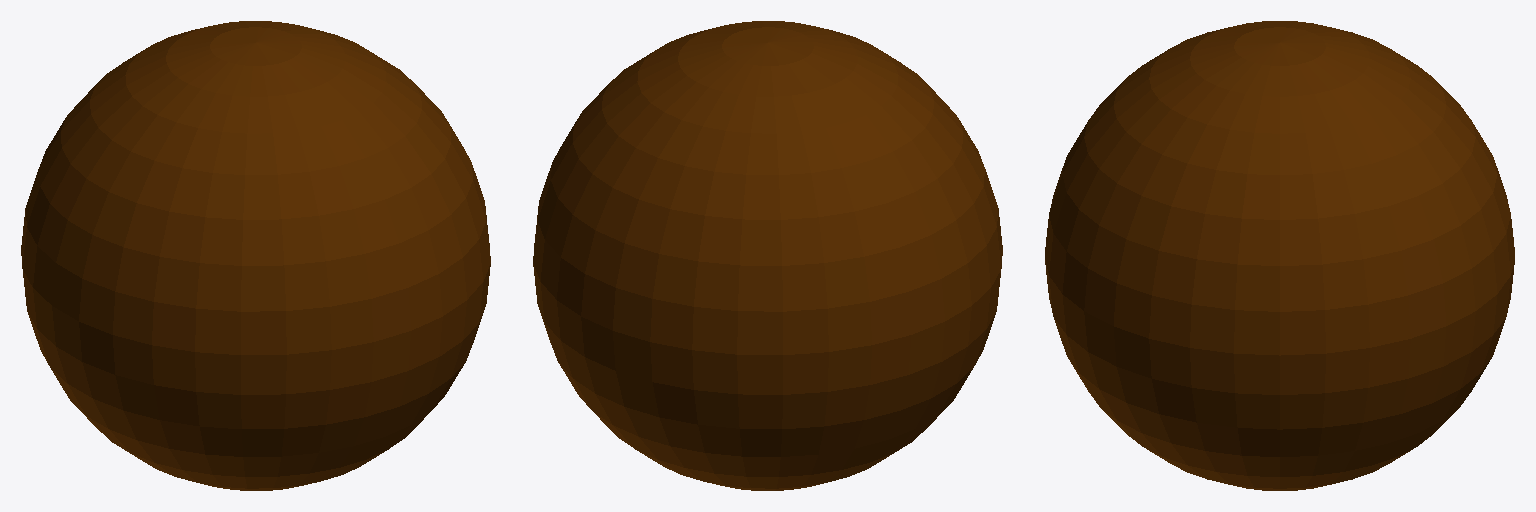
File: sph.obj
3 views of the same model, side by side, from view 1: azimuth 30°, elevation 25°; view 2: azimuth 150°, elevation 25°; view 3: azimuth 270°, elevation 25° (orthographic).
Visible parts, largest first — view 1: Sphere; view 2: Sphere; view 3: Sphere.
Part boxes in pixels (left/top/right/bottom): Sphere: left=21, top=21, right=490, bottom=490; Sphere: left=533, top=21, right=1002, bottom=490; Sphere: left=1045, top=21, right=1514, bottom=490.
Bounding box in the file's own units: 2 × 2 × 2.